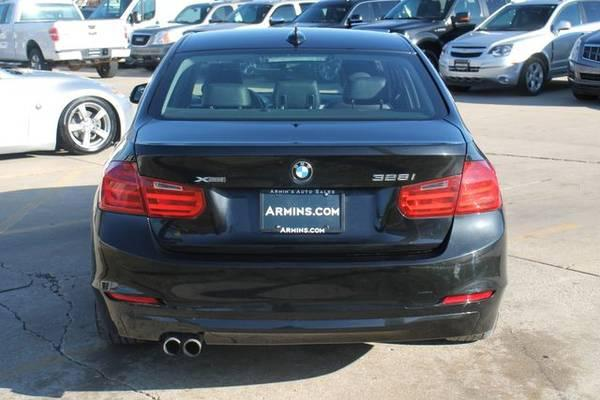Left_Taillight: (98, 162, 205, 223)
Rear_Bumper: (89, 209, 506, 344)
Rear_Windshield: (140, 45, 460, 118)
Right_Taillight: (400, 158, 503, 217)
Roof: (174, 20, 420, 48)
Tailgate: (114, 114, 483, 257)
